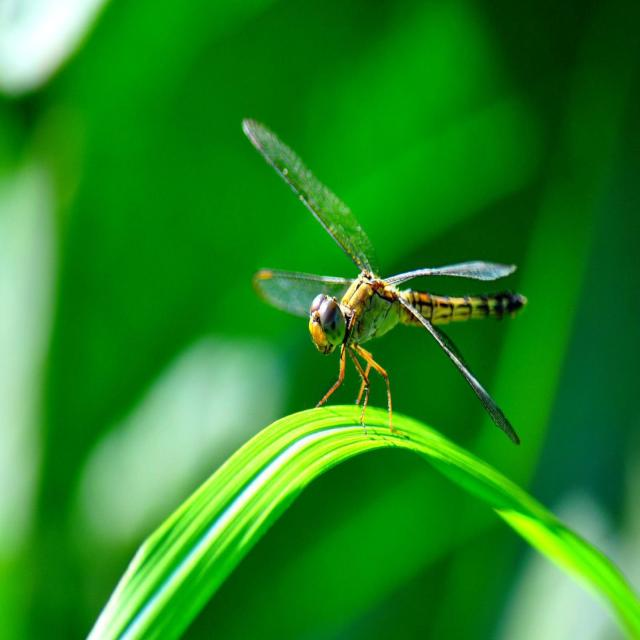dragonfly: (243, 120, 526, 444)
